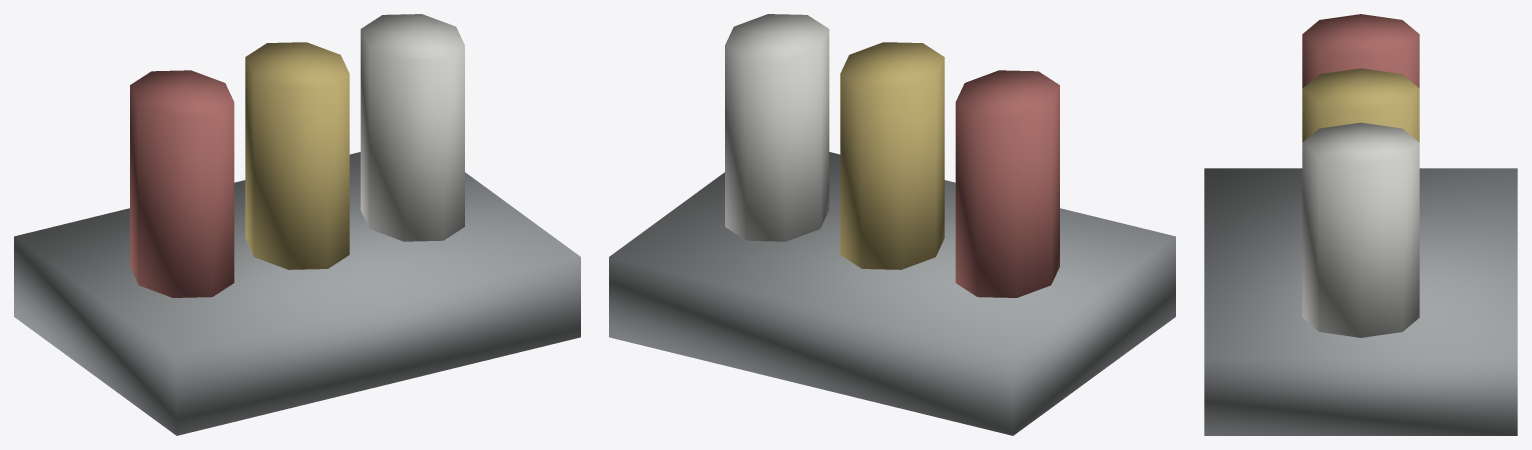
File: condiment_station__deep.glb
3 views of the same model, side by side, from view 1: azimuth 30°, elevation 25°; view 2: azimuth 150°, elevation 25°; view 3: azimuth 270°, elevation 25° (orthographic). The views are drawn at different scales.
Parts seen in each view (by area): view 1: world; view 2: world; view 3: world.
Boxes of the visible parts, <box> form: world: <box>14,14,580,435</box>; world: <box>609,14,1175,435</box>; world: <box>1204,14,1517,435</box>.
Size of the model in its own units: 0.42 by 0.26 by 0.2928.
